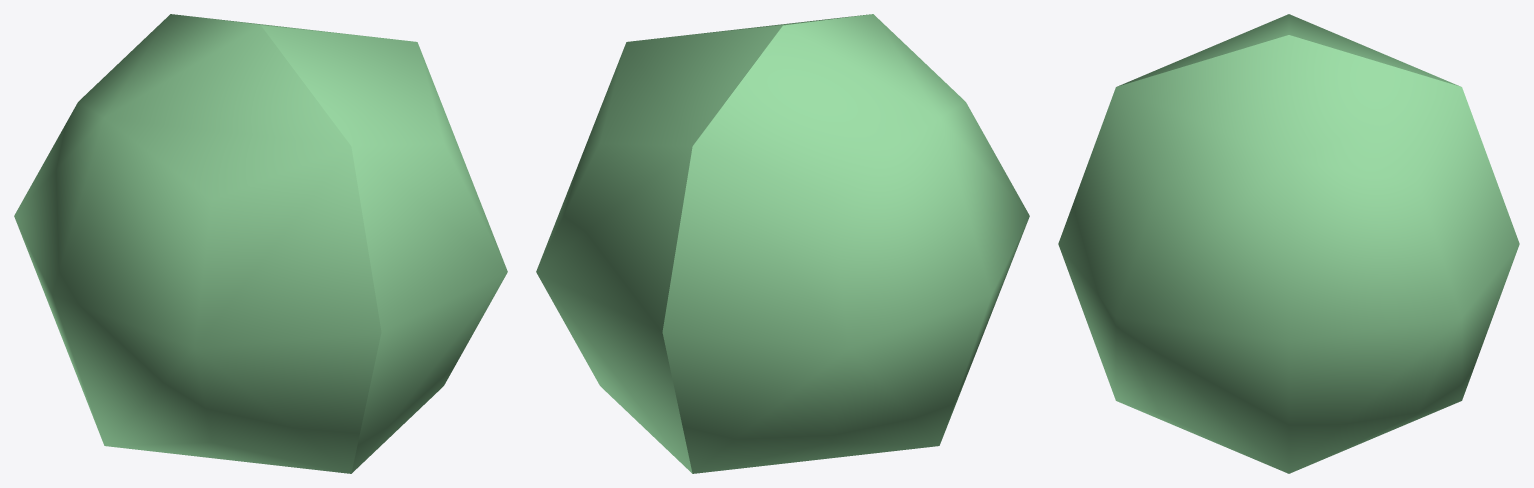
Rendered from cabbage.fbx.
3 renders of one model, left to right at view 1: azimuth 30°, elevation 25°; view 2: azimuth 150°, elevation 25°; view 3: azimuth 270°, elevation 25°, orthographic. The views are drawn at different scales.
Parts seen in each view (by area): view 1: polySurface3; view 2: polySurface3; view 3: polySurface3.
Part boxes in pixels (<box>): polySurface3: <box>14,14,507,473</box>; polySurface3: <box>536,14,1029,473</box>; polySurface3: <box>1058,14,1519,473</box>.
Size of the model in its own units: 2.43 by 2.43 by 2.43.
